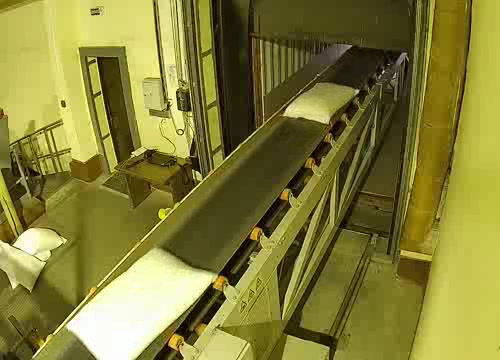bag: (59, 246, 227, 360), (280, 76, 363, 129)
